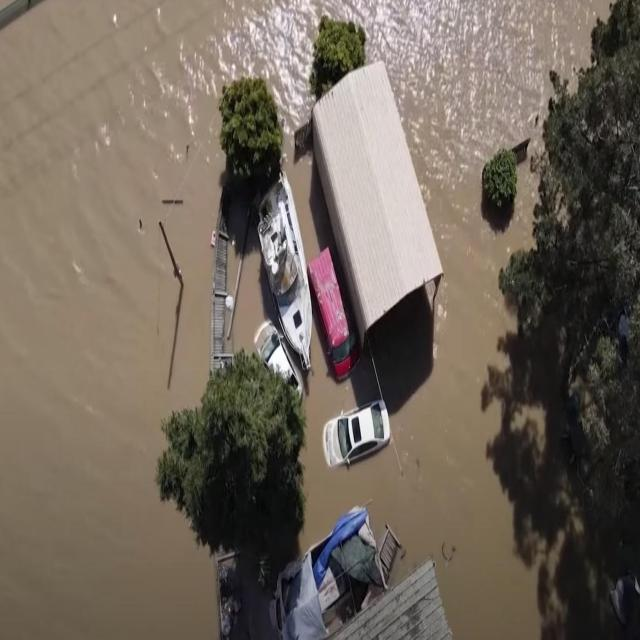flood: (0, 0, 611, 638), (228, 204, 279, 350)
house: (308, 64, 446, 356)
